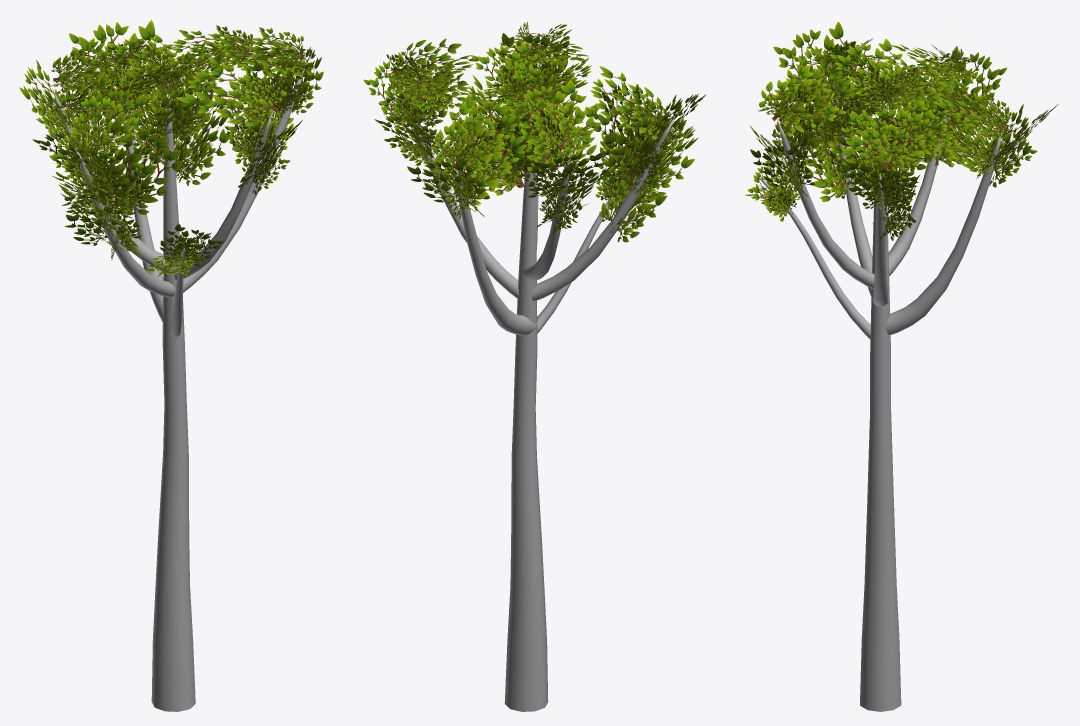
File: Growing_Phase2.fbx
The picture shows the model from 3 angles, left to right: view 1: azimuth 30°, elevation 25°; view 2: azimuth 150°, elevation 25°; view 3: azimuth 270°, elevation 25°; orthographic projection. The views are drawn at different scales.
Parts seen in each view (by area): view 1: Leaves_Phase2, Tree_Phase2; view 2: Leaves_Phase2, Tree_Phase2; view 3: Leaves_Phase2, Tree_Phase2.
Boxes of the visible parts, bbox=[...] form: Leaves_Phase2: bbox=[19, 20, 323, 277]; Tree_Phase2: bbox=[52, 62, 304, 711]; Leaves_Phase2: bbox=[363, 21, 705, 242]; Tree_Phase2: bbox=[398, 82, 674, 711]; Leaves_Phase2: bbox=[745, 21, 1058, 241]; Tree_Phase2: bbox=[756, 51, 1003, 711].
Bounding box in the file's own units: 2.11 × 4.33 × 1.99.
